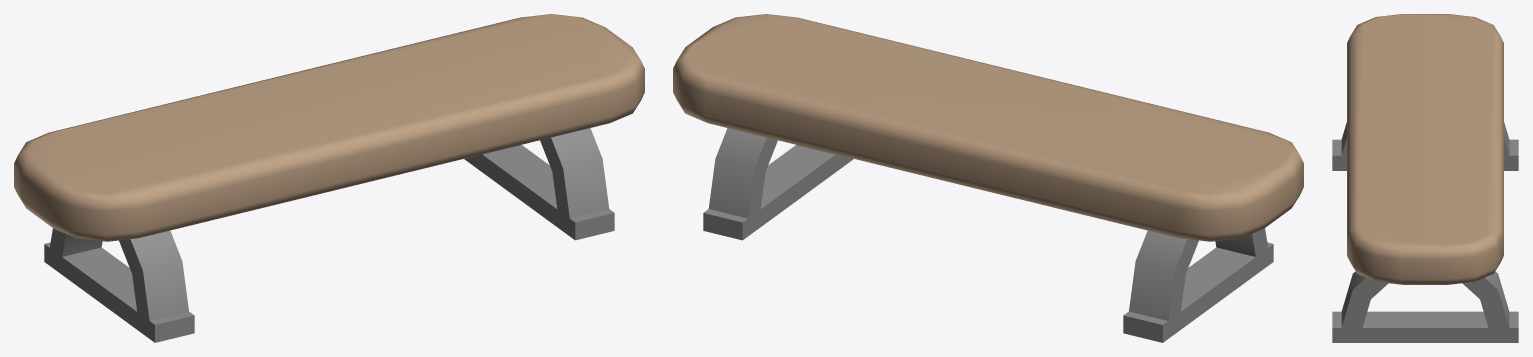
Rendered from bigBench.fbx.
3 renders of one model, left to right at view 1: azimuth 30°, elevation 25°; view 2: azimuth 150°, elevation 25°; view 3: azimuth 270°, elevation 25°, orthographic. The views are drawn at different scales.
Visible parts, largest first — view 1: bigBench; view 2: bigBench; view 3: bigBench.
Boxes of the visible parts, left/top/right/bottom form: bigBench: left=14, top=14, right=644, bottom=342; bigBench: left=673, top=14, right=1303, bottom=342; bigBench: left=1332, top=14, right=1518, bottom=342.
Bounding box in the file's own units: 154 × 35.59 × 50.36.
